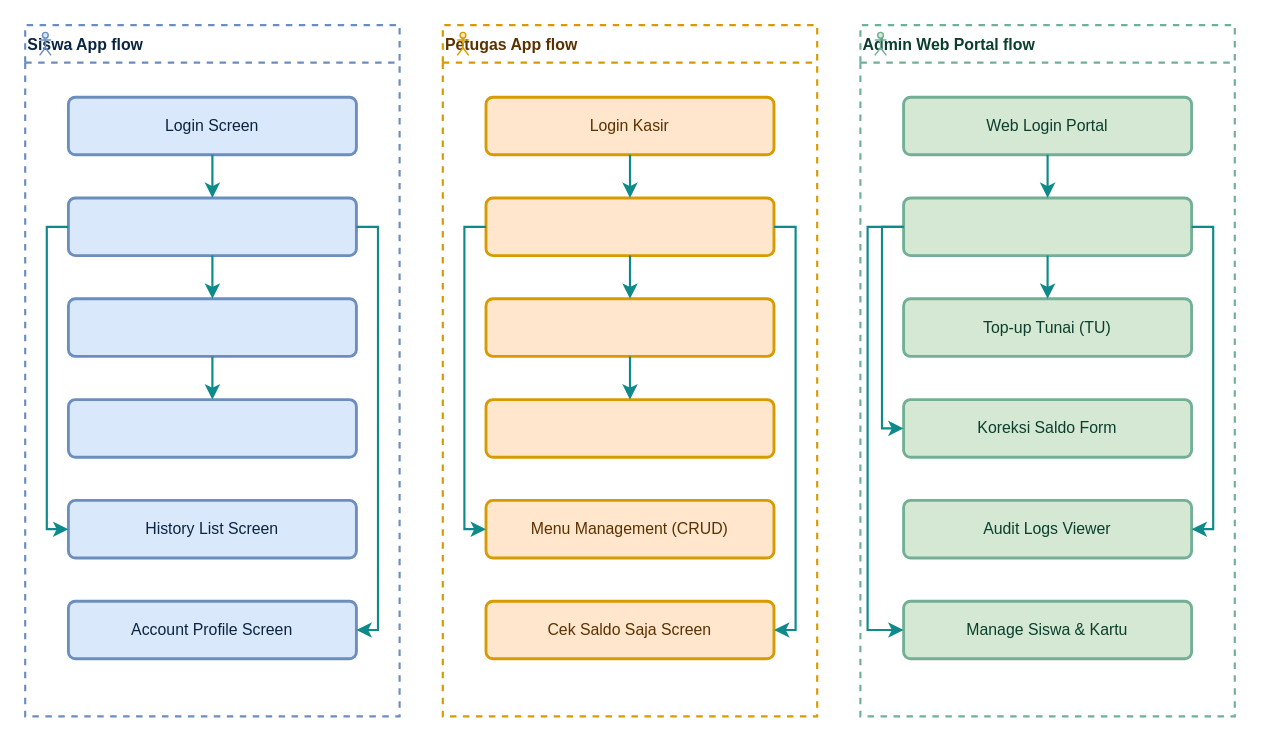
Some shapes in this 1261 by 743 pixel diagram are drawn without their labels. Here are the shapes that lost their labels. From the top down, the centre of each, then its label:
At point (211, 226): "Dashboard (Home)".
At point (629, 226): "POS Catalog Grid".
At point (1046, 226): "Dashboard Summary".
At point (211, 327): "Top-up Nominal Grid".
At point (629, 327): "Cart & Custom Charge".
At point (211, 427): "Midtrans Snap Webview".
At point (629, 427): "NFC Payment Modal".
